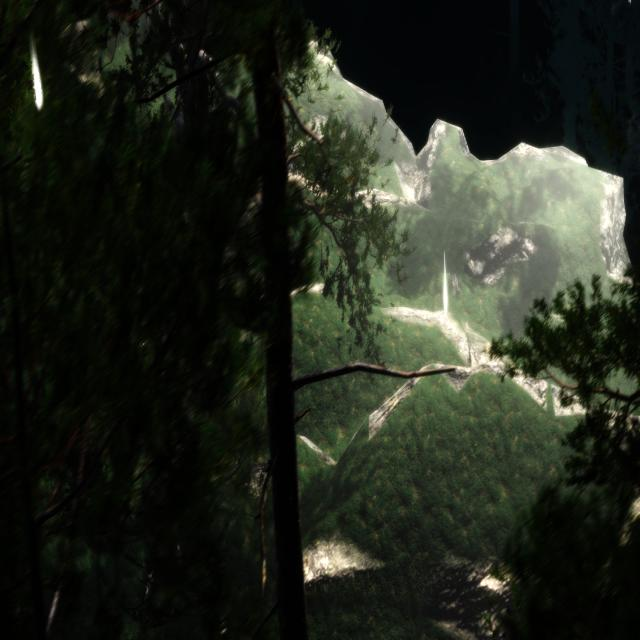Human: (159, 79, 206, 144)
